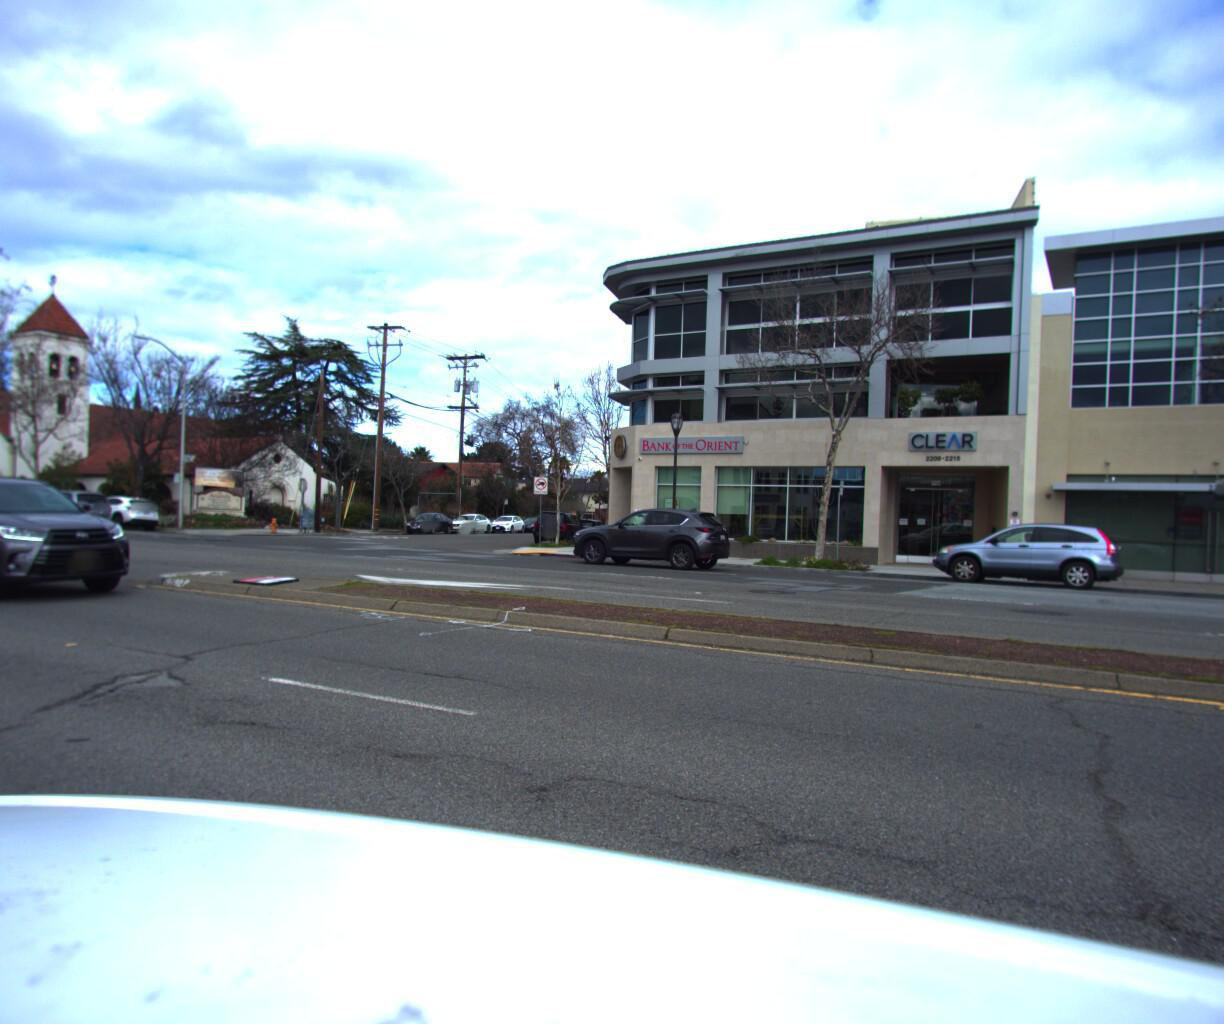car: (920, 513, 1130, 594), (567, 503, 742, 573), (5, 484, 113, 526), (71, 491, 164, 527), (525, 502, 593, 544), (399, 506, 456, 533), (443, 507, 492, 530), (484, 509, 527, 530)
